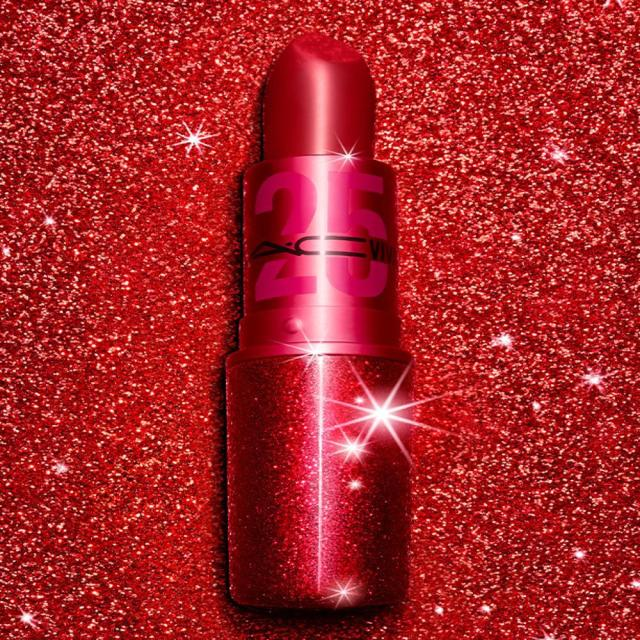lipstick: (201, 11, 454, 622)
